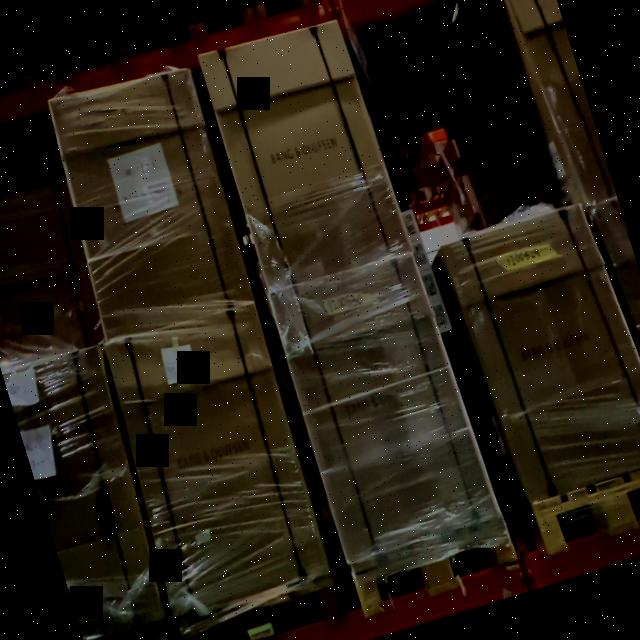box: (271, 251, 504, 562), (105, 306, 332, 618), (440, 204, 640, 504), (198, 20, 411, 291), (48, 70, 255, 337)
